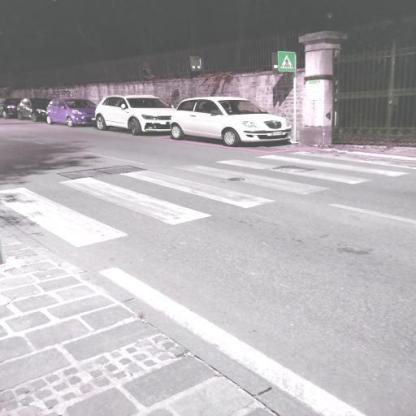crosswalk: (51, 161, 279, 228)
